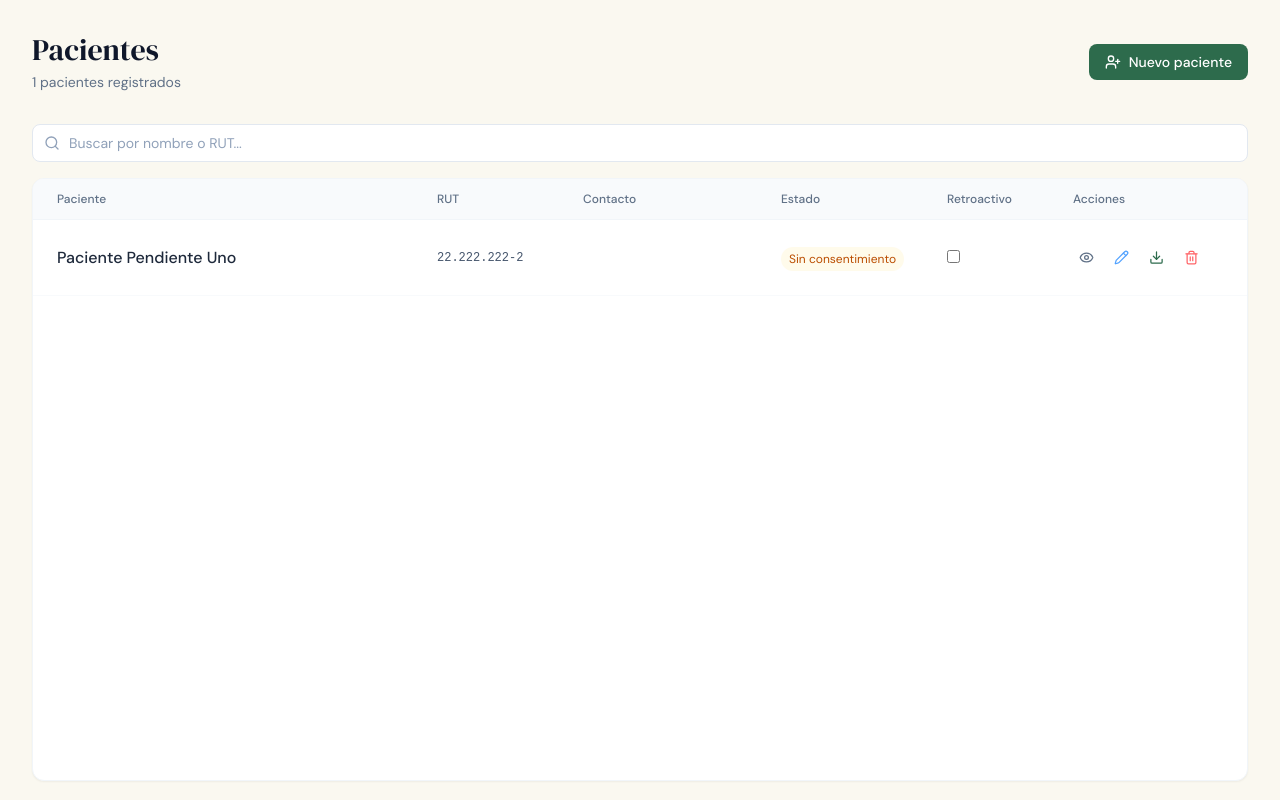
Test case: PatientsPage › Declaración retroactiva de consentimiento (issue #131) › review R3-002: si un paciente del lote falla, igual limpia TODA la selección y avisa cuántos fallaron
Click the checkbox named "declarar consentimiento retroactivo de paciente pendiente uno" at [954, 256], box [947,250,960,262]
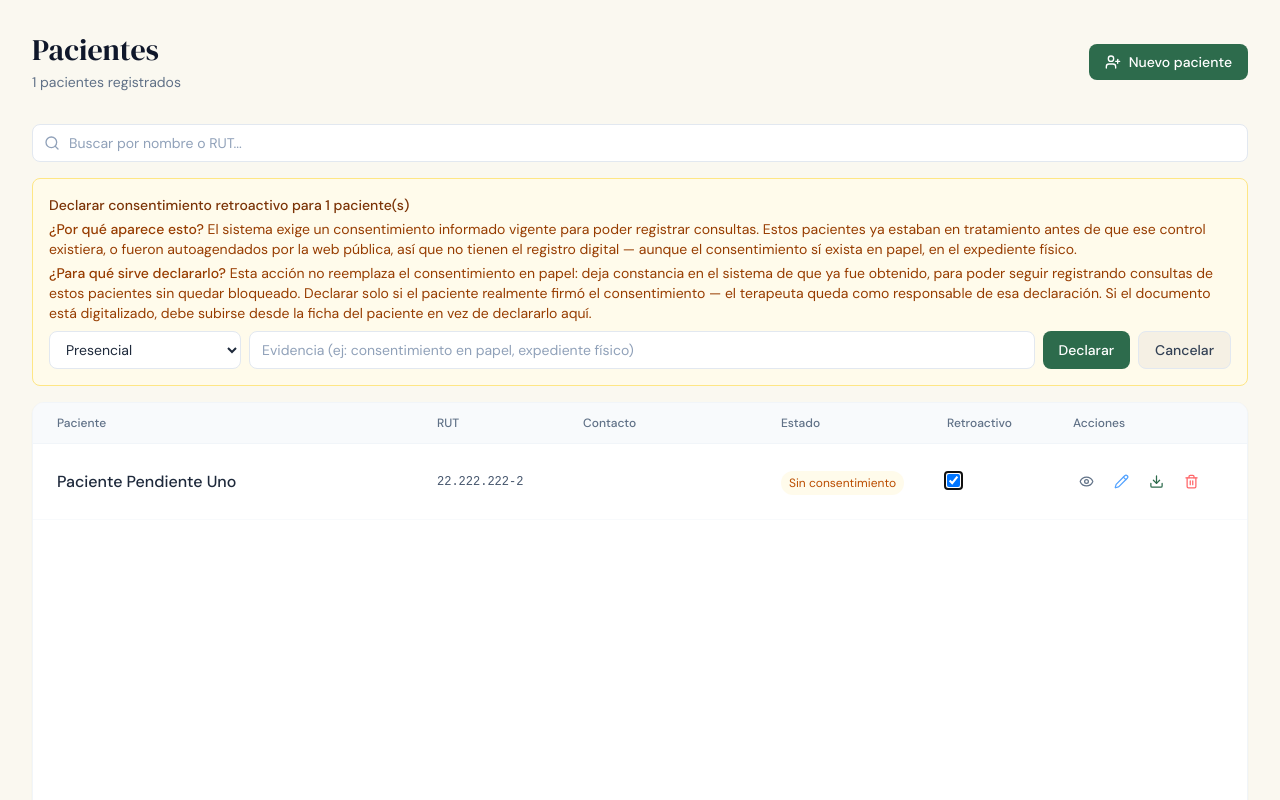
Type "Consentimiento en papel del expediente físico" into the field with placeholder "Evidencia (ej: consentimiento en papel, expediente físico)" at [642, 350], box [249,331,1034,369]
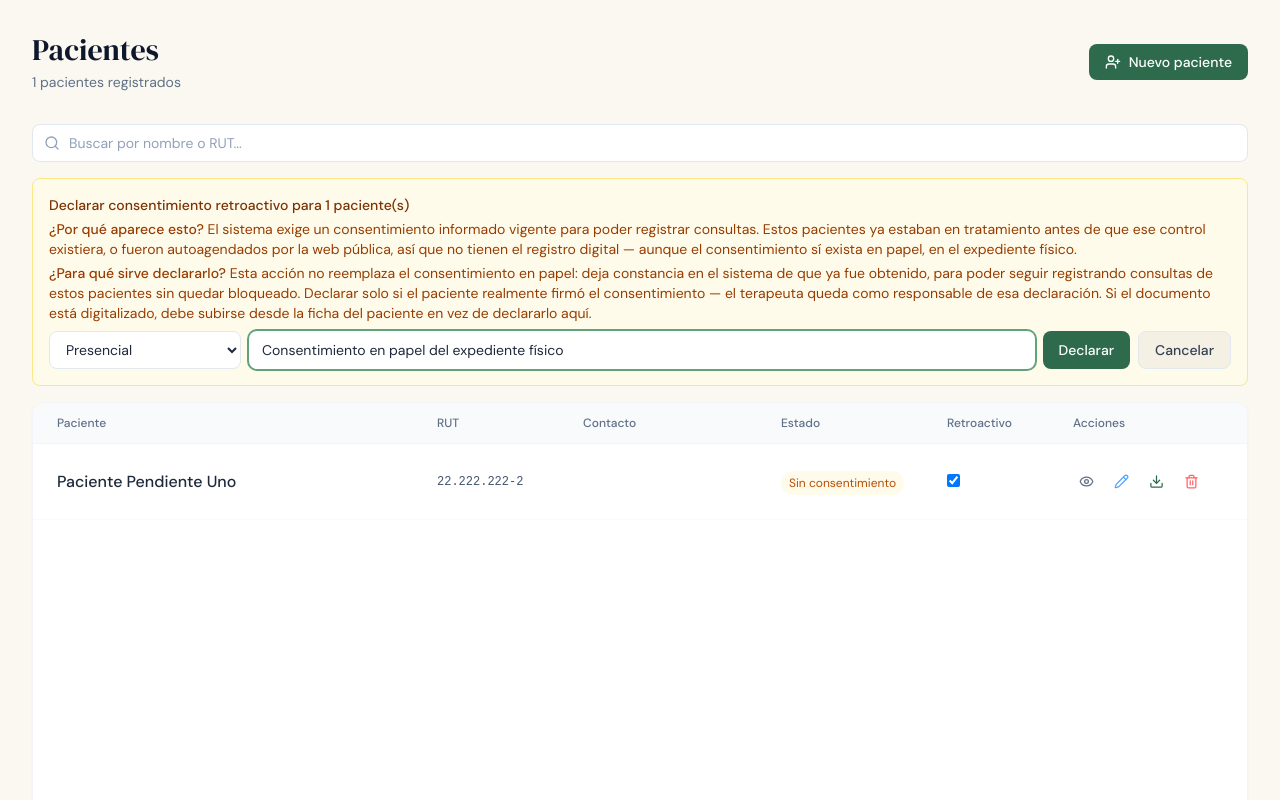
Click the button "Declarar" at [1086, 350], box [1042,331,1130,369]
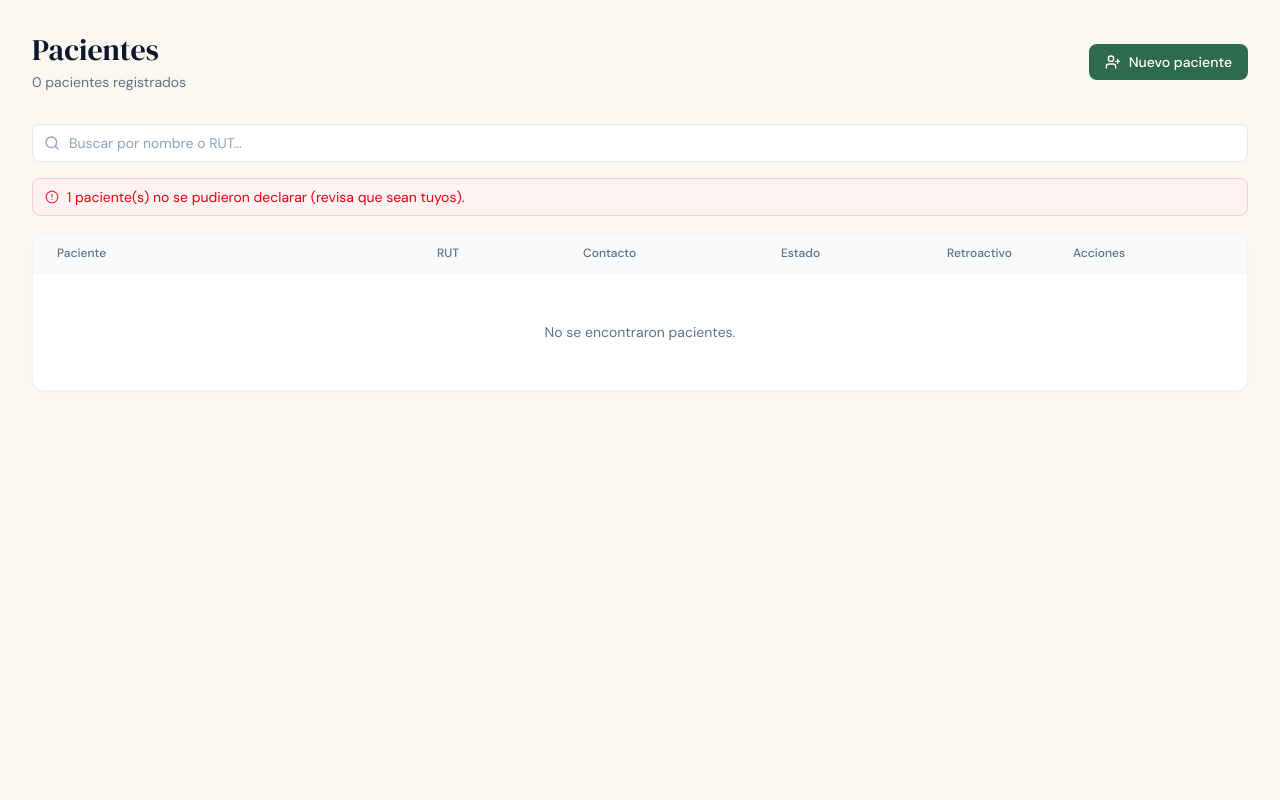
expect the text "1 paciente(s) no se pudieron declarar" is shown: met, box [67,188,464,206]
